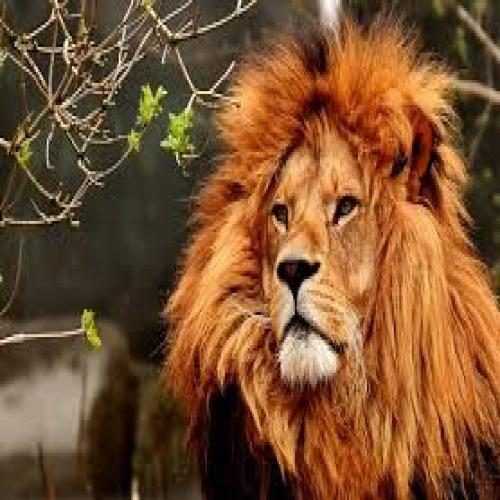lion-endangered: (160, 30, 462, 500)
